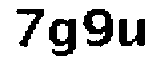7: (13, 5, 44, 49)
9: (80, 7, 115, 51)
g: (46, 16, 80, 60)
u: (116, 15, 148, 52)
